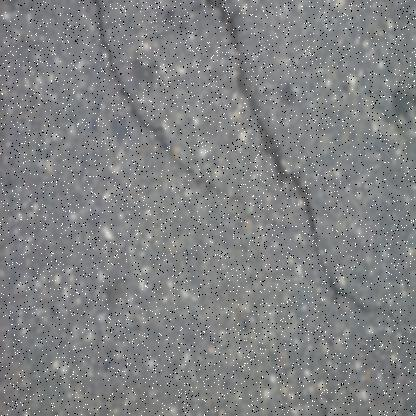Cracks: (199, 0, 387, 320), (89, 0, 221, 197)
